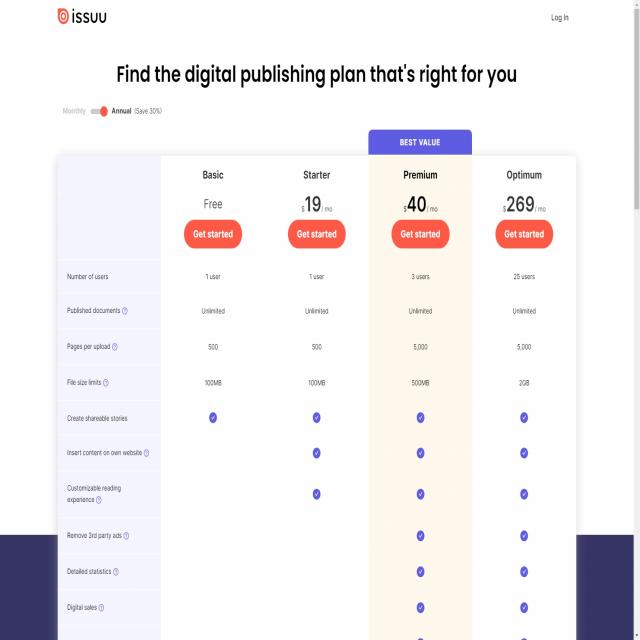menu-bar: (544, 8, 574, 26)
